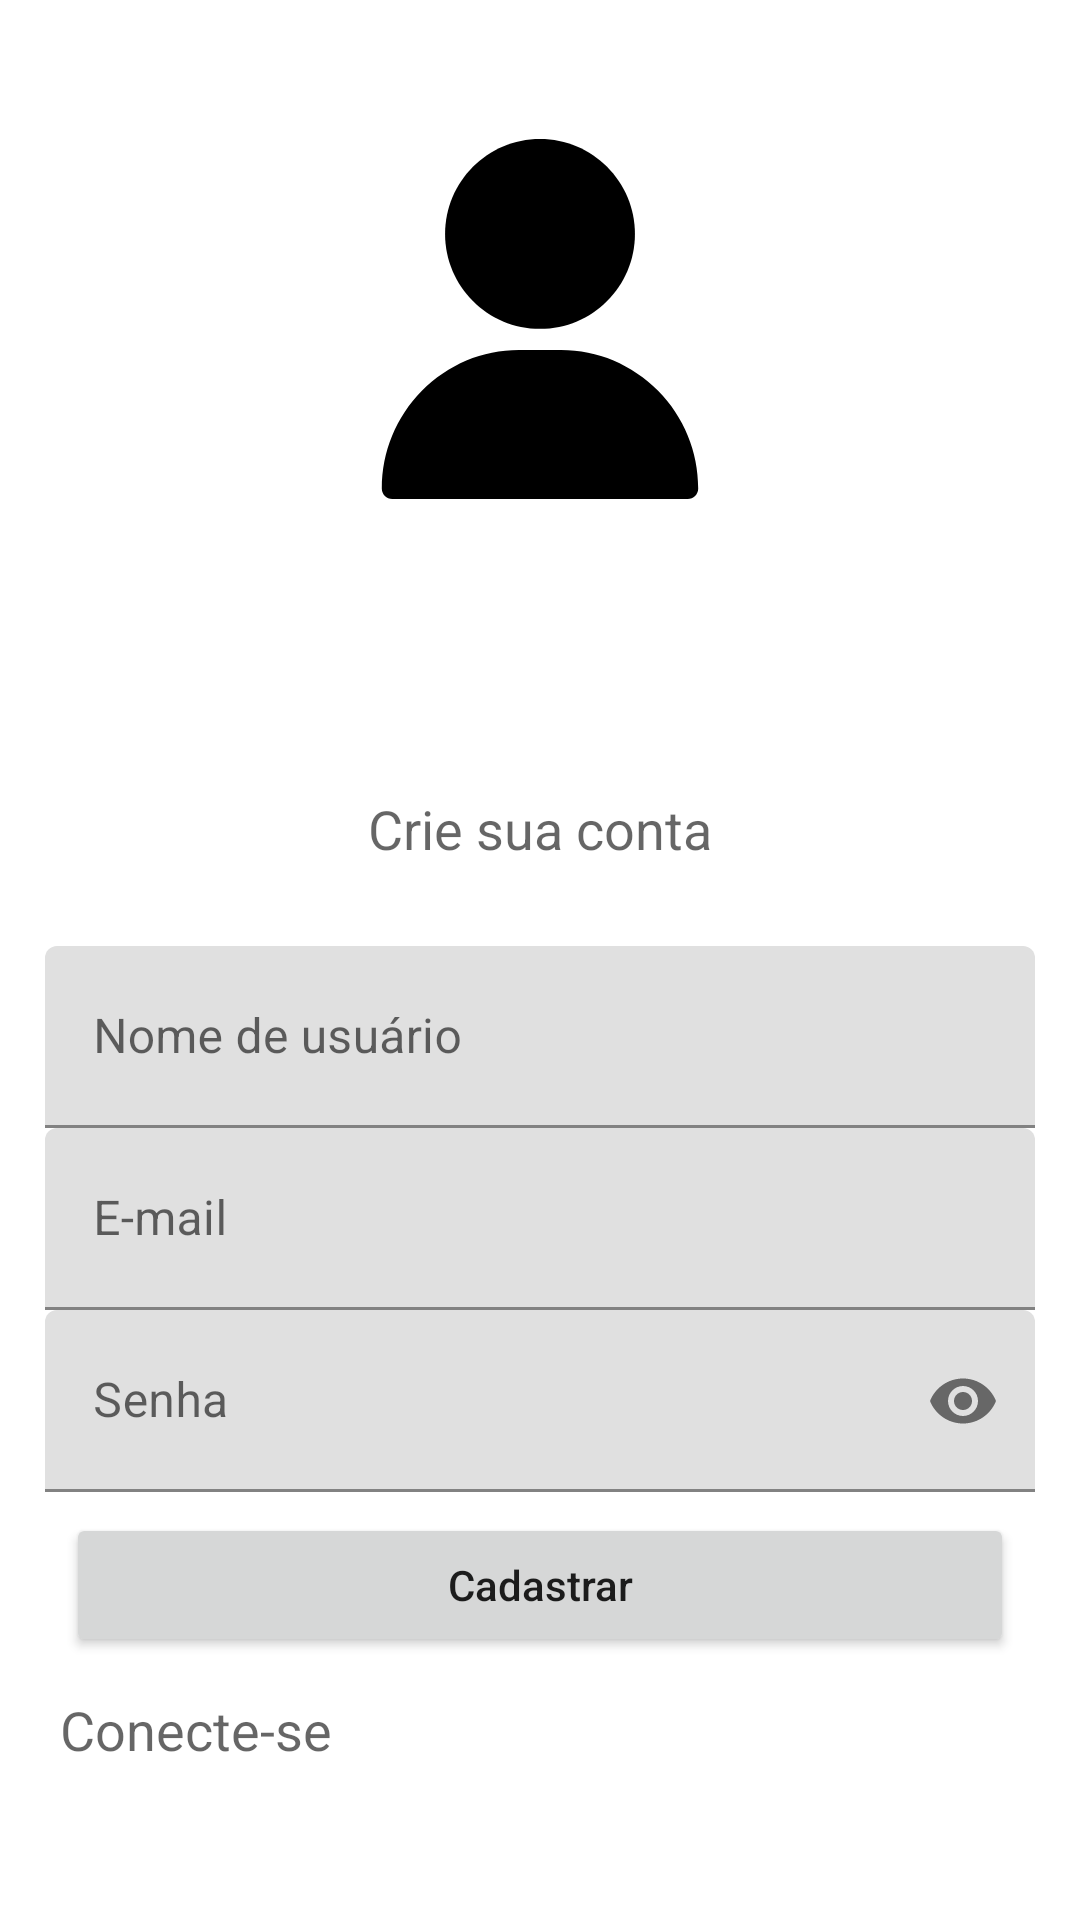

Point at icon controls on the screen. Image size 1080w x 1920h, points as (x=x, y=y).
user: (x=540, y=319)
